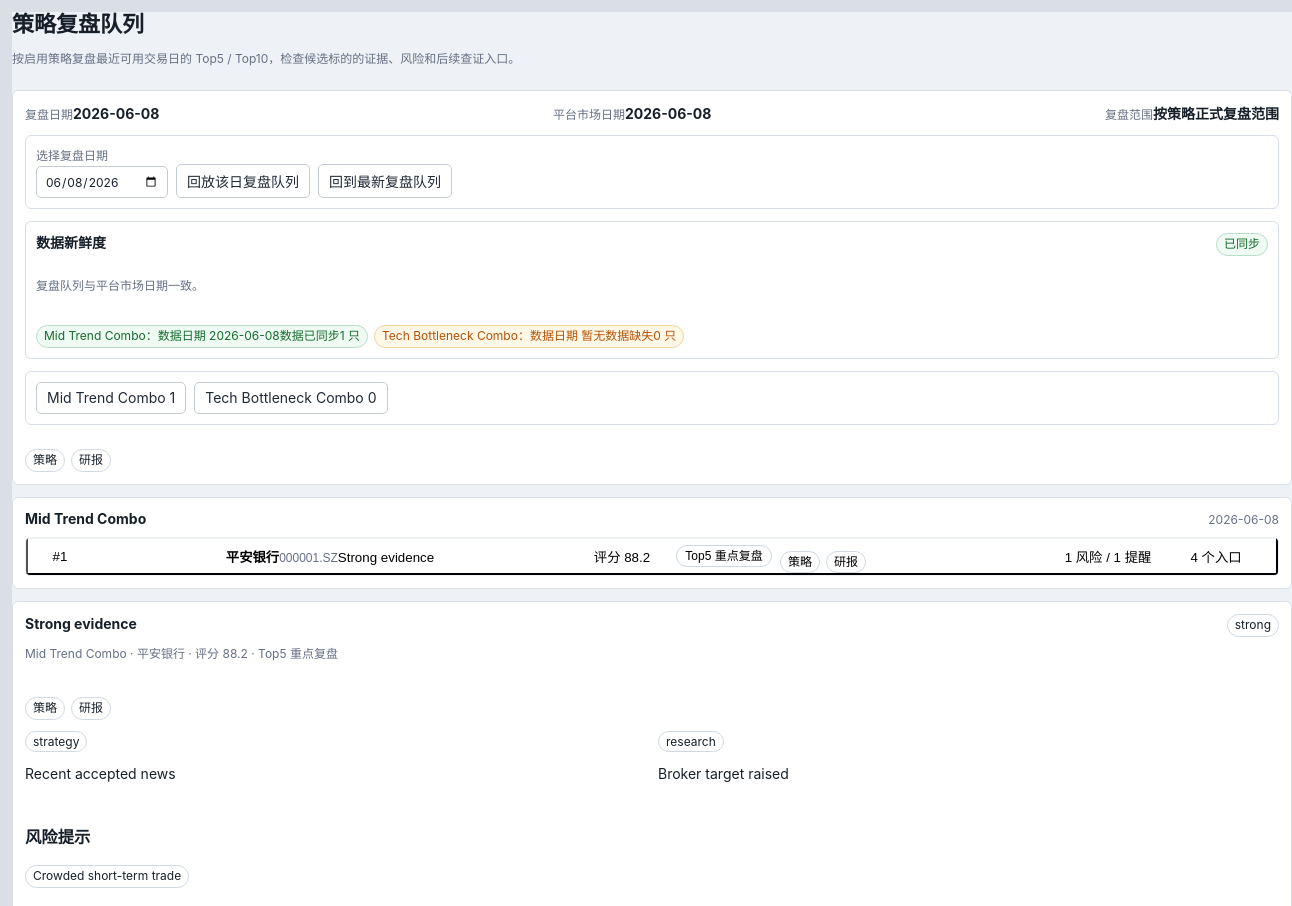
ReviewQueueWorkspace › replays the review queue for a selected trade date
Expected: the text "Recent accepted news" is shown, x1=25 y1=765 x2=176 y2=782
Type "2026-07-24" into the date field labelled "选择复盘日期" at (102, 182), box x1=36 y1=166 x2=168 y2=198
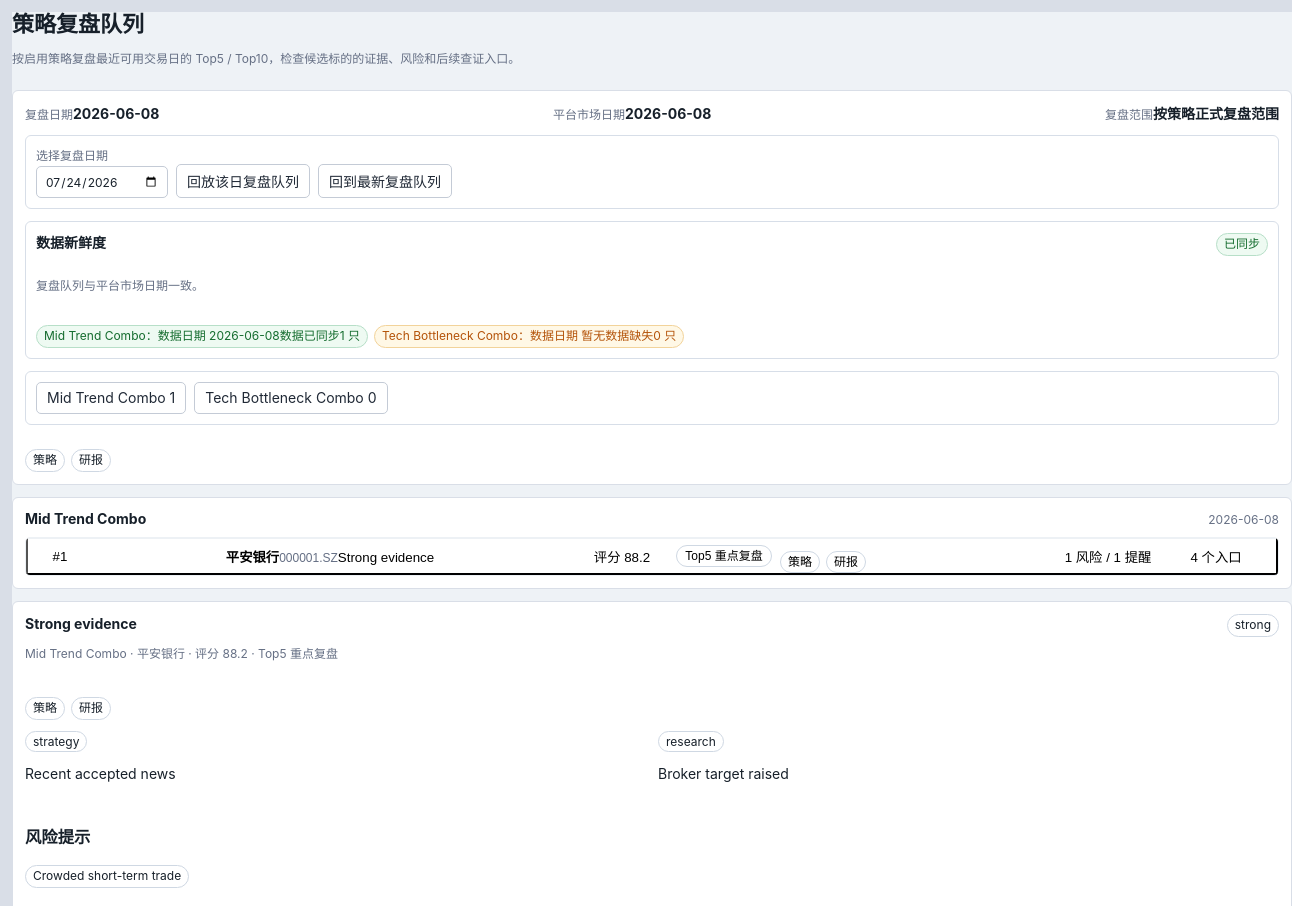
Click the button "回放该日复盘队列" at (243, 181), box x1=176 y1=164 x2=310 y2=198
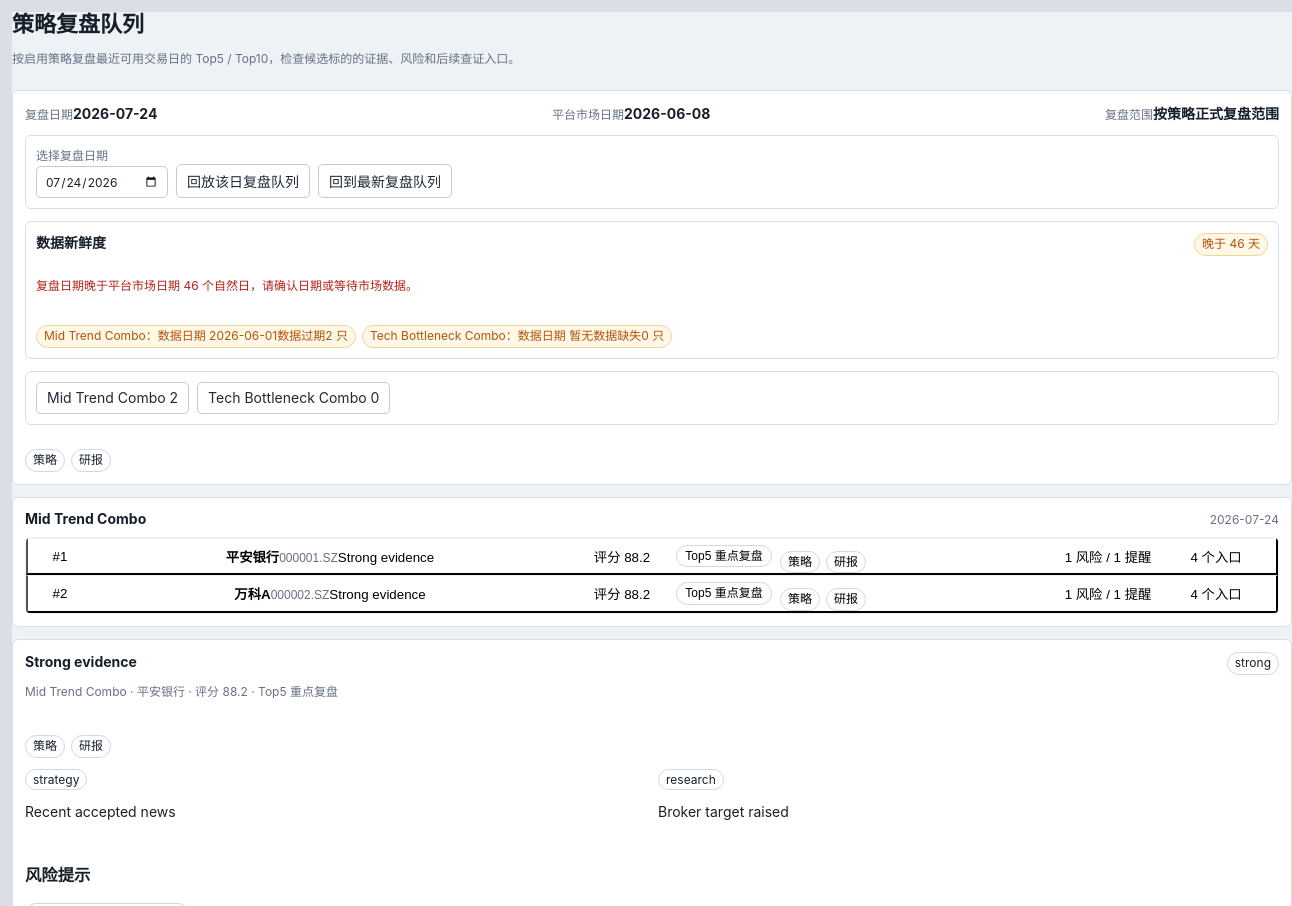
Now the button "Mid Trend Combo 2" is shown, box x1=36 y1=382 x2=189 y2=414
Now the text "万科A" is shown, box x1=234 y1=587 x2=271 y2=602
